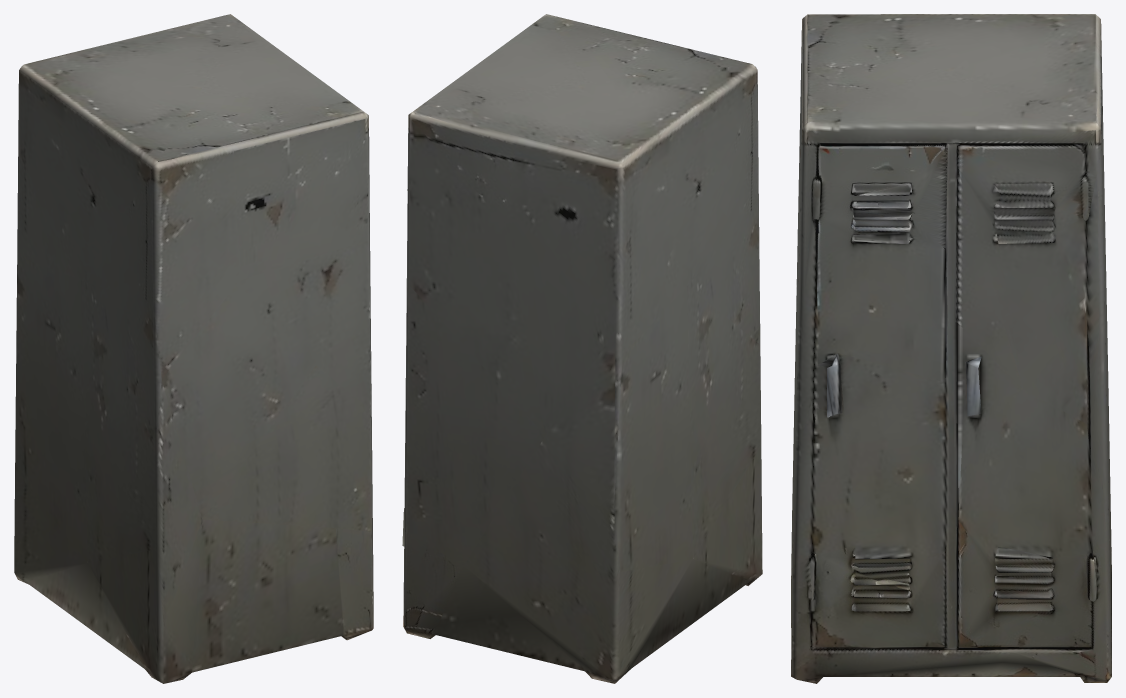
File: tripo_convert_64b5f4b0-763b-481e-8f61-22f3581c8dbc.fbx
The picture shows the model from 3 angles, left to right: view 1: azimuth 30°, elevation 25°; view 2: azimuth 150°, elevation 25°; view 3: azimuth 270°, elevation 25°; orthographic projection. The views are drawn at different scales.
Parts seen in each view (by area): view 1: tripo_node_64b5f4b0; view 2: tripo_node_64b5f4b0; view 3: tripo_node_64b5f4b0.
Boxes of the visible parts, <box> form: tripo_node_64b5f4b0: <box>14,14,373,683</box>; tripo_node_64b5f4b0: <box>402,14,762,683</box>; tripo_node_64b5f4b0: <box>791,14,1111,683</box>.
Bounding box in the file's own units: 0.4517 × 1 × 0.5197.
Materials: 1 (1 with a texture image).
